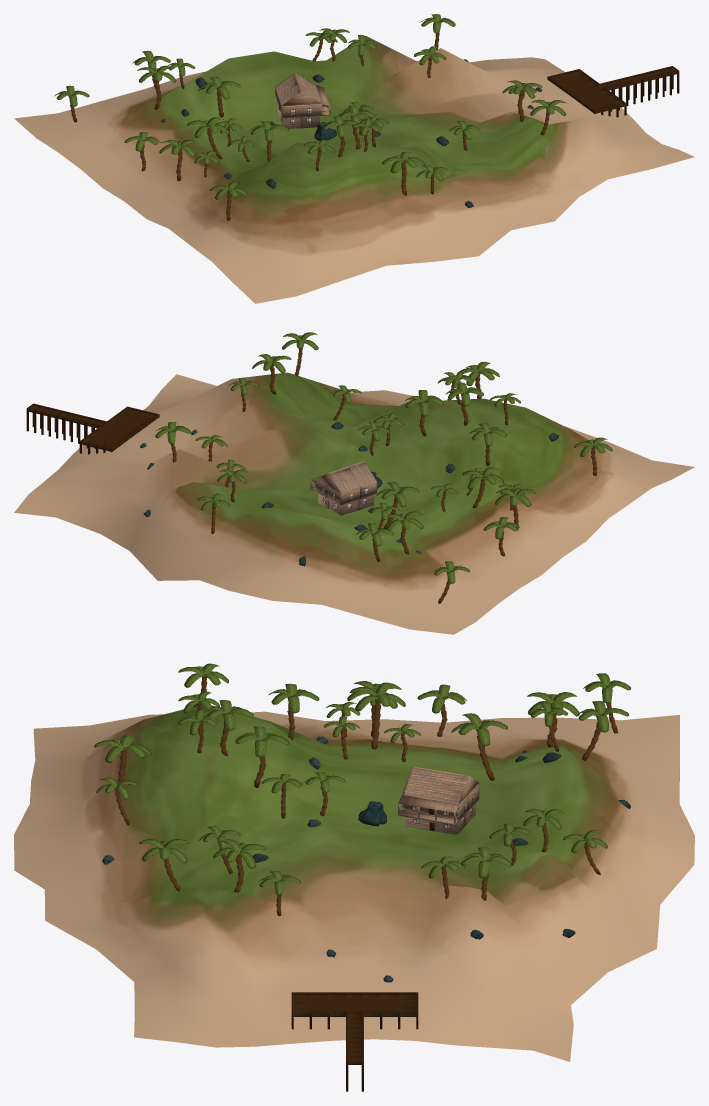
File: homebaseisland2.fbx
The picture shows the model from 3 angles, top to bottom: view 1: azimuth 30°, elevation 25°; view 2: azimuth 150°, elevation 25°; view 3: azimuth 270°, elevation 25°; orthographic projection. The views are drawn at different scales.
Visible parts, largest first — view 1: Island2; view 2: Island2; view 3: Island2.
Boxes of the visible parts, bbox=[...] form: Island2: bbox=[14, 14, 694, 303]; Island2: bbox=[14, 332, 694, 634]; Island2: bbox=[14, 663, 694, 1091].
Size of the model in its own units: 1627 by 317 by 1319.
